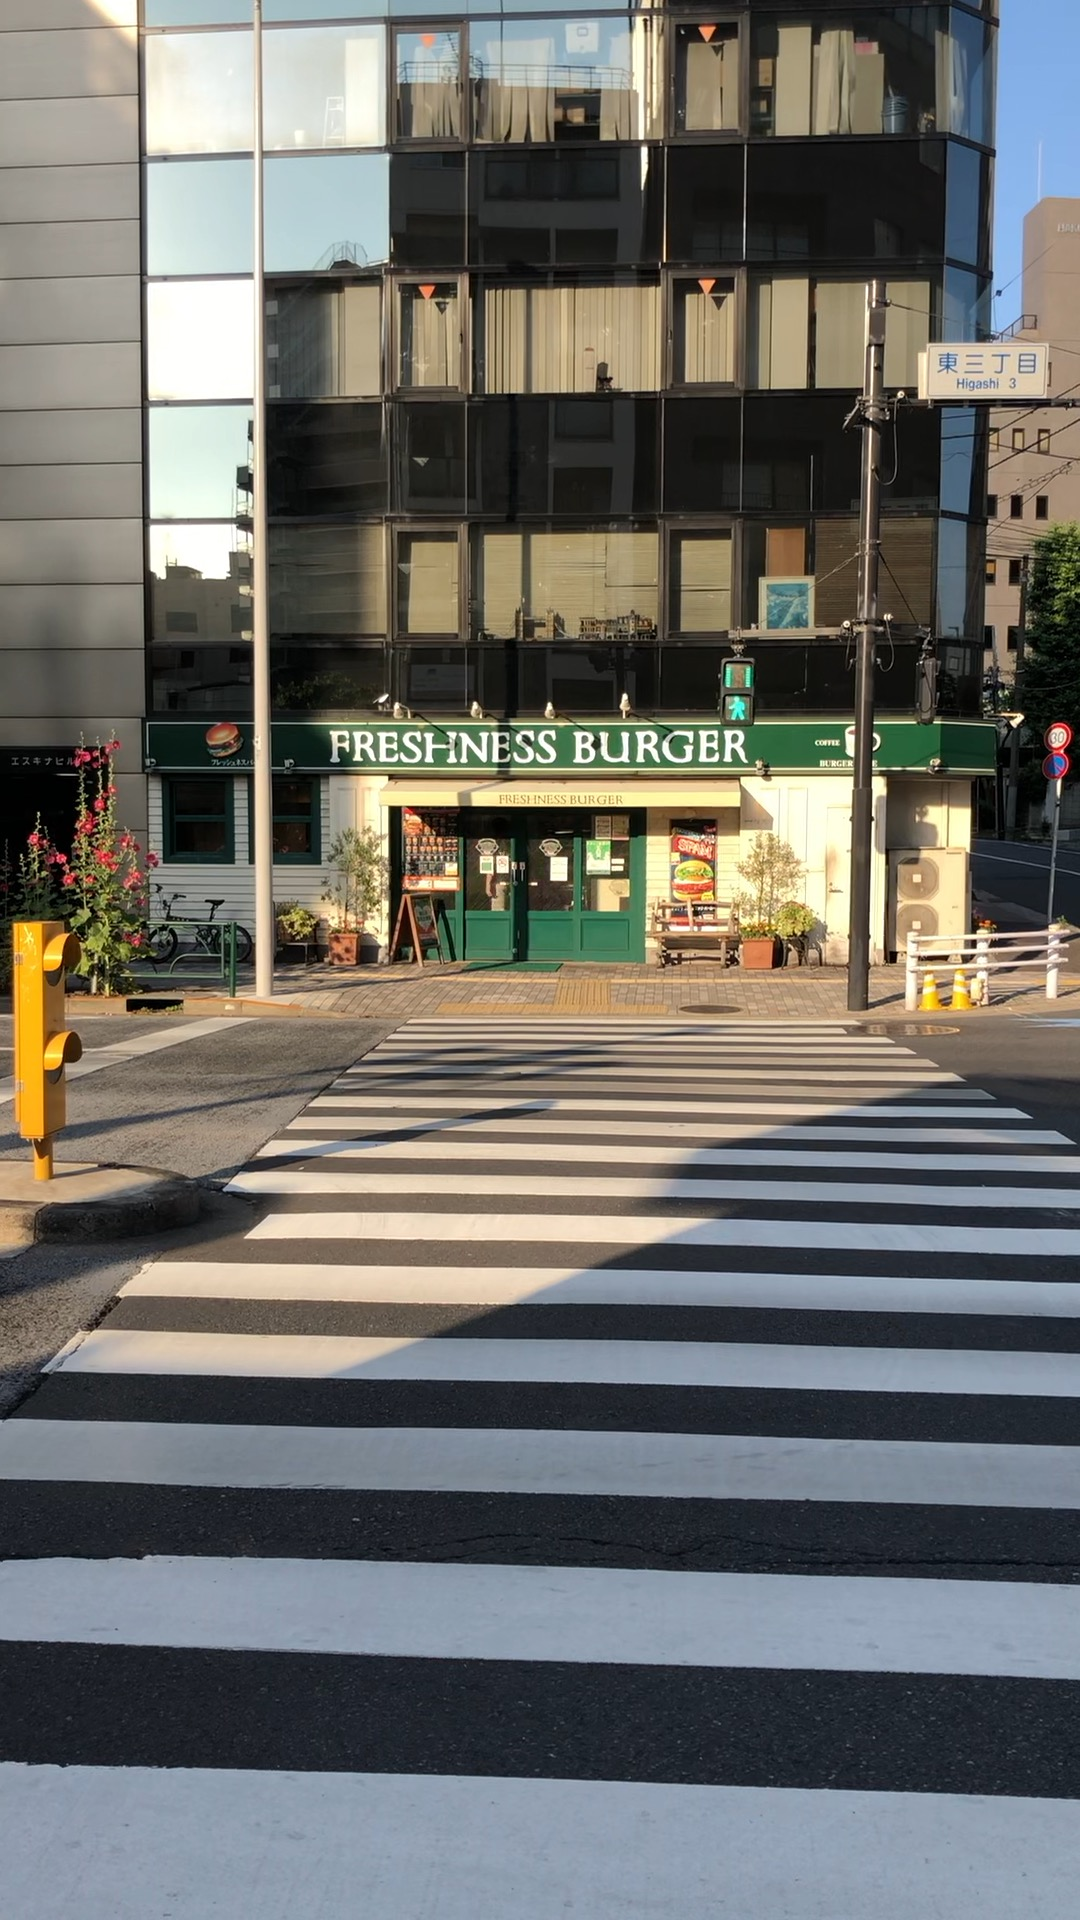green: (717, 655, 756, 731)
